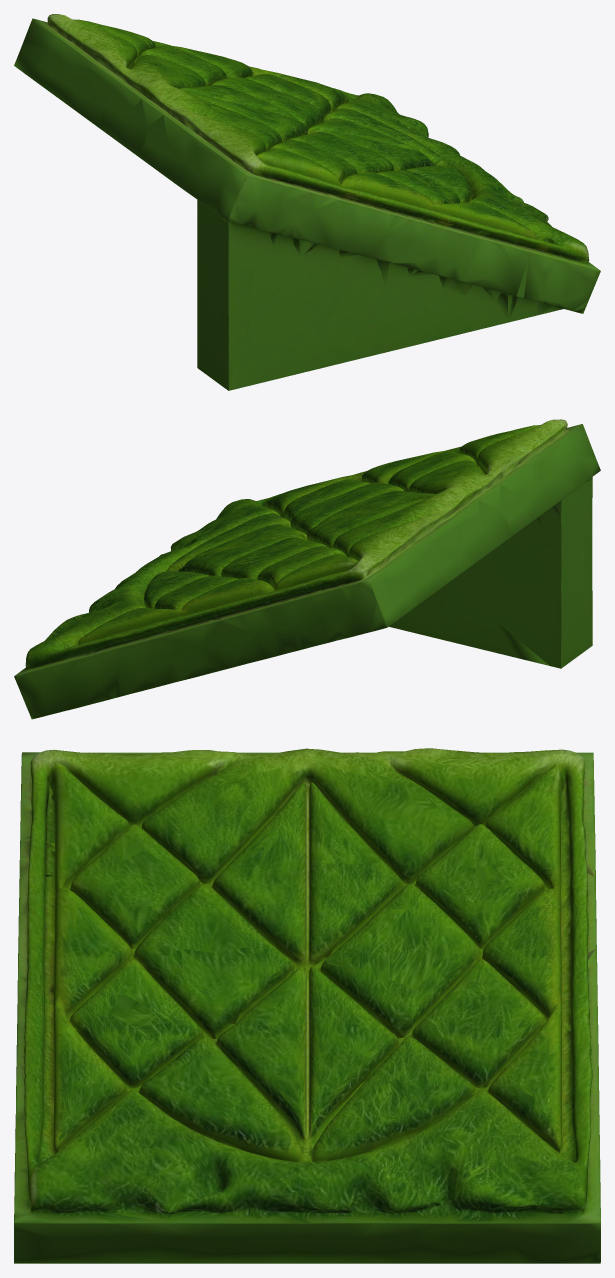
File: grass.glb
3 renders of one model, top to bottom at view 1: azimuth 30°, elevation 25°; view 2: azimuth 150°, elevation 25°; view 3: azimuth 270°, elevation 25°, orthographic. The views are drawn at different scales.
Parts seen in each view (by area): view 1: tripo_node_f6238c1c-ed54-4281-ad2d-1f8facd3783a; view 2: tripo_node_f6238c1c-ed54-4281-ad2d-1f8facd3783a; view 3: tripo_node_f6238c1c-ed54-4281-ad2d-1f8facd3783a.
Part boxes in pixels (x1,y1,x2,y2): tripo_node_f6238c1c-ed54-4281-ad2d-1f8facd3783a: (14, 14, 600, 390); tripo_node_f6238c1c-ed54-4281-ad2d-1f8facd3783a: (14, 419, 600, 719); tripo_node_f6238c1c-ed54-4281-ad2d-1f8facd3783a: (14, 748, 600, 1263).
Size of the model in its own units: 0.966 by 0.5619 by 0.9792.
1 material, 1 textured.
